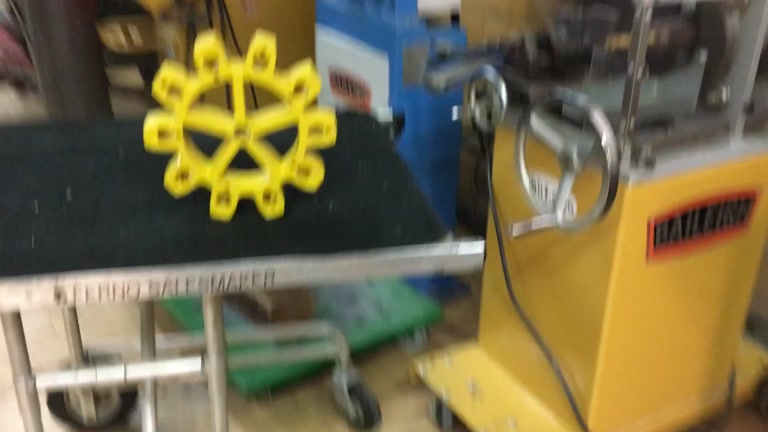gear: (141, 29, 337, 223)
